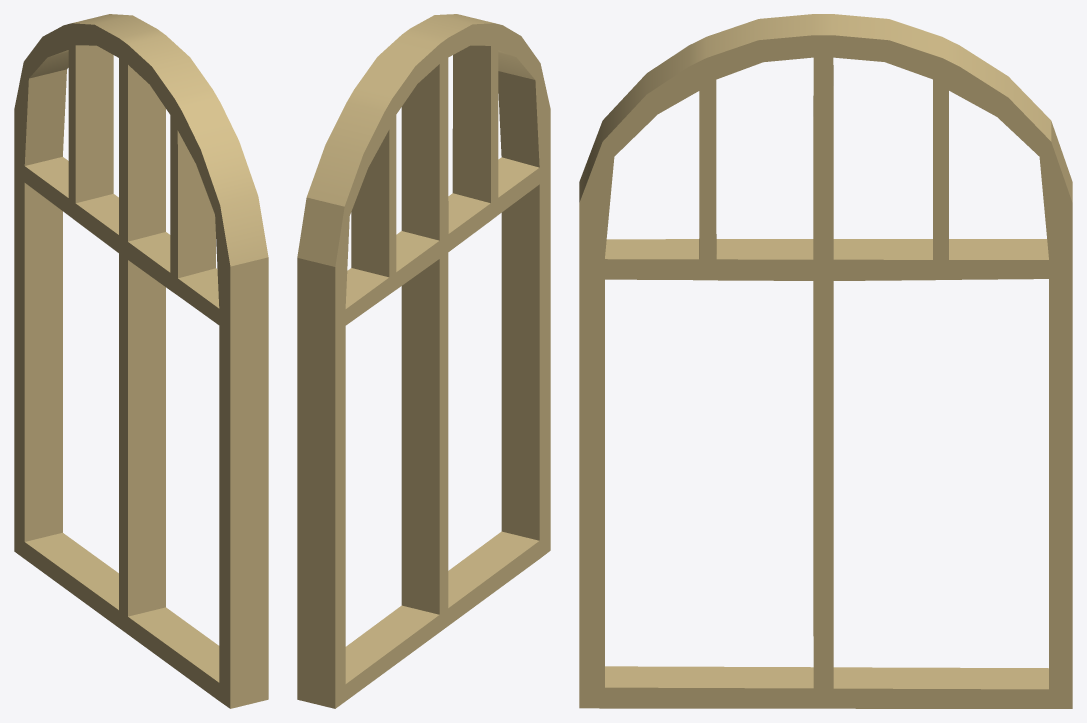
Rendered from window round .fbx.
3 views of the same model, side by side, from view 1: azimuth 30°, elevation 25°; view 2: azimuth 150°, elevation 25°; view 3: azimuth 270°, elevation 25° (orthographic). The views are drawn at different scales.
Visible parts, largest first — view 1: pCube4; view 2: pCube4; view 3: pCube4.
Part boxes in pixels (x1,y1,x2,y2): pCube4: [14, 14, 268, 708]; pCube4: [297, 14, 550, 708]; pCube4: [579, 14, 1072, 708].
Size of the model in its own units: 5.5 by 81.24 by 53.89.
